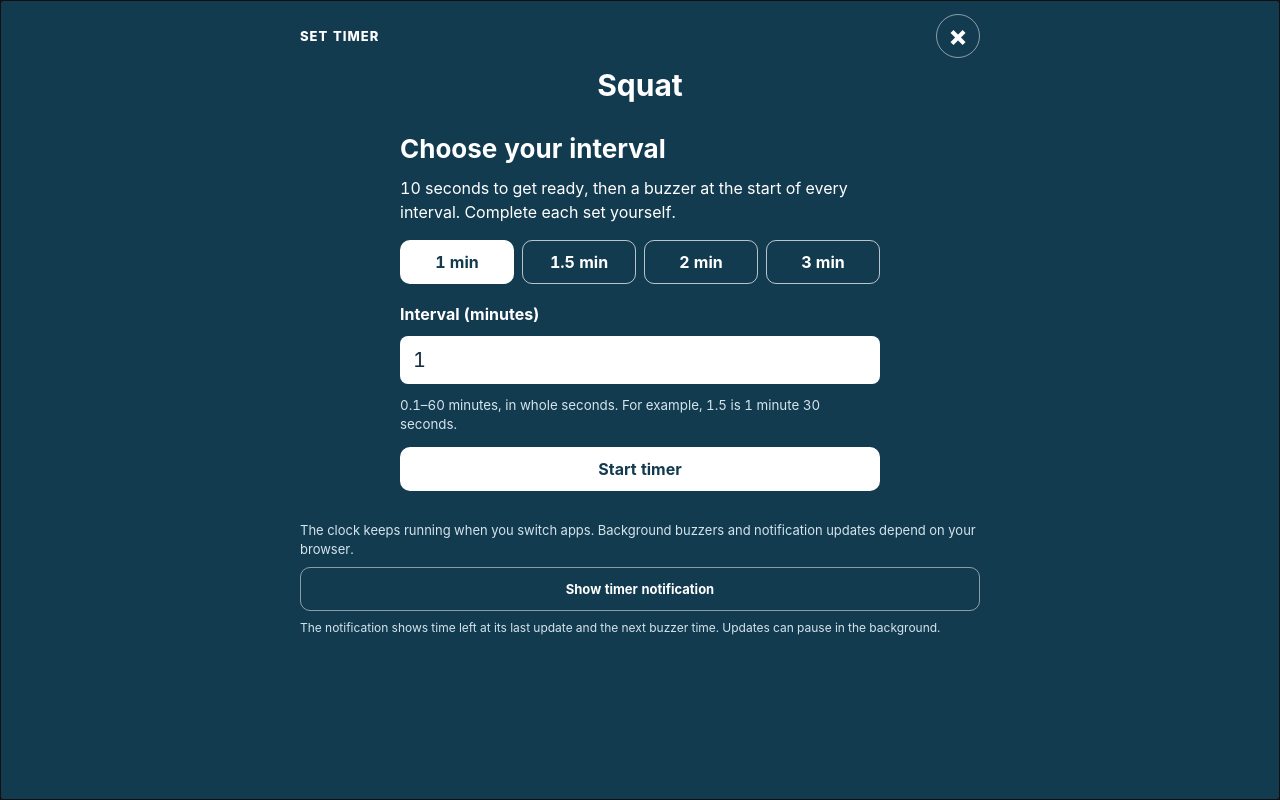
Scenario: rejects an invalid custom interval 0.01
Replace the text in the number field with id "set-timer-minutes" with "0.01" at (640, 360), box x1=400 y1=336 x2=880 y2=384
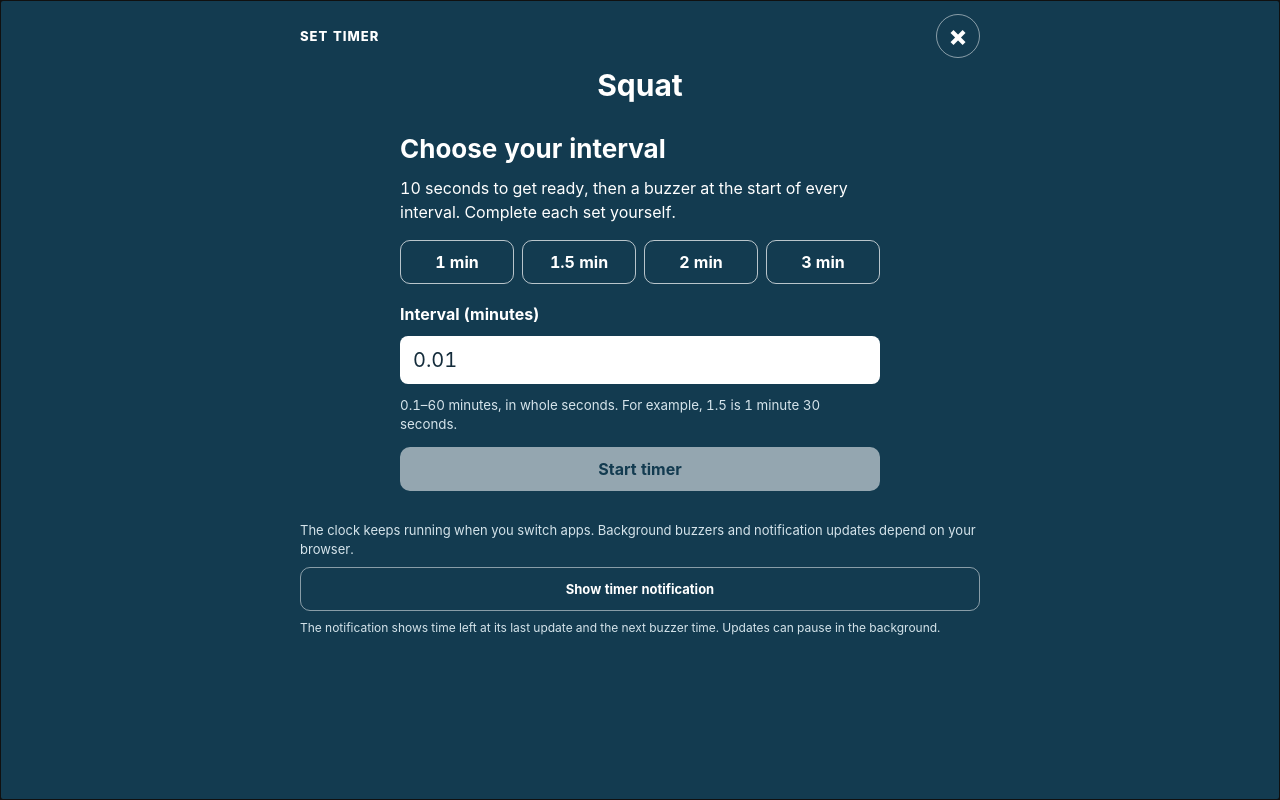
Expected: the button "Start timer" is disabled, x1=400 y1=448 x2=880 y2=492
